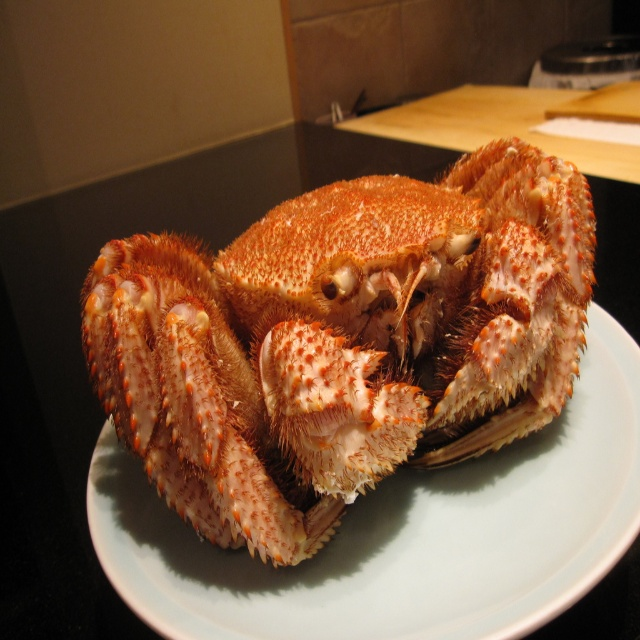Crab: (81, 136, 596, 571)
